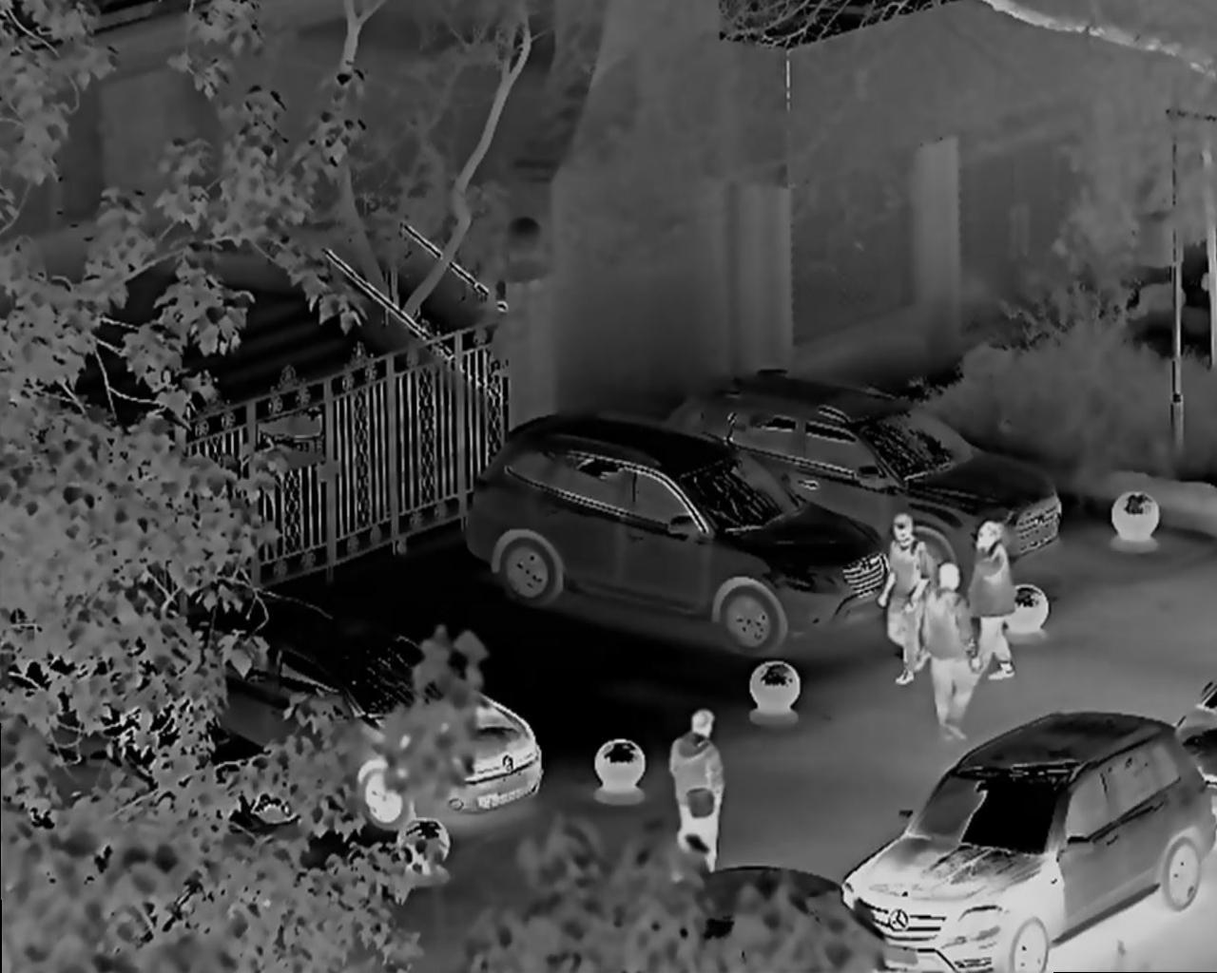person: (670, 701, 747, 855), (873, 504, 926, 690), (971, 511, 1023, 696), (921, 556, 974, 728)
